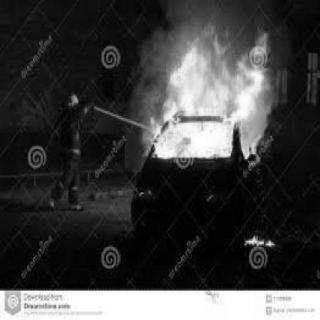Fire: (137, 28, 277, 156)
